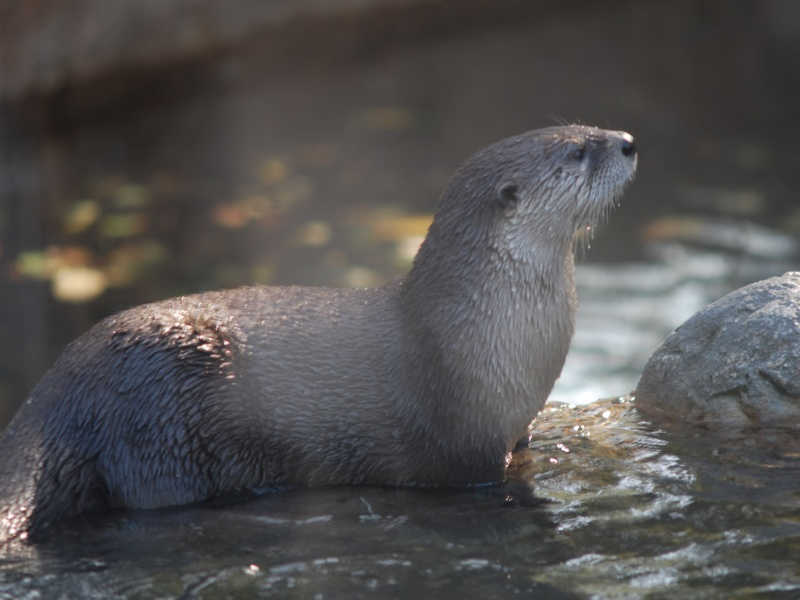minkish: (19, 122, 638, 539)
